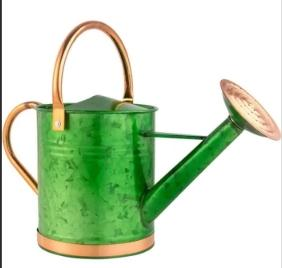ARROSOIR: (0, 18, 281, 268)
